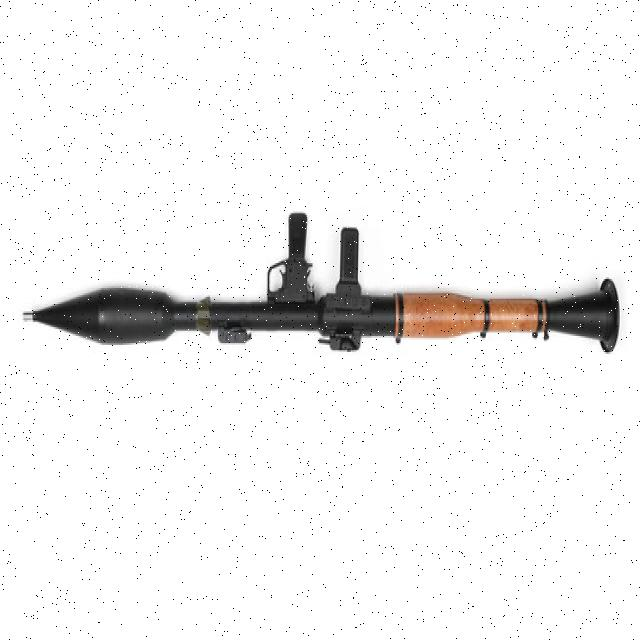bazooka: (20, 206, 624, 367)
